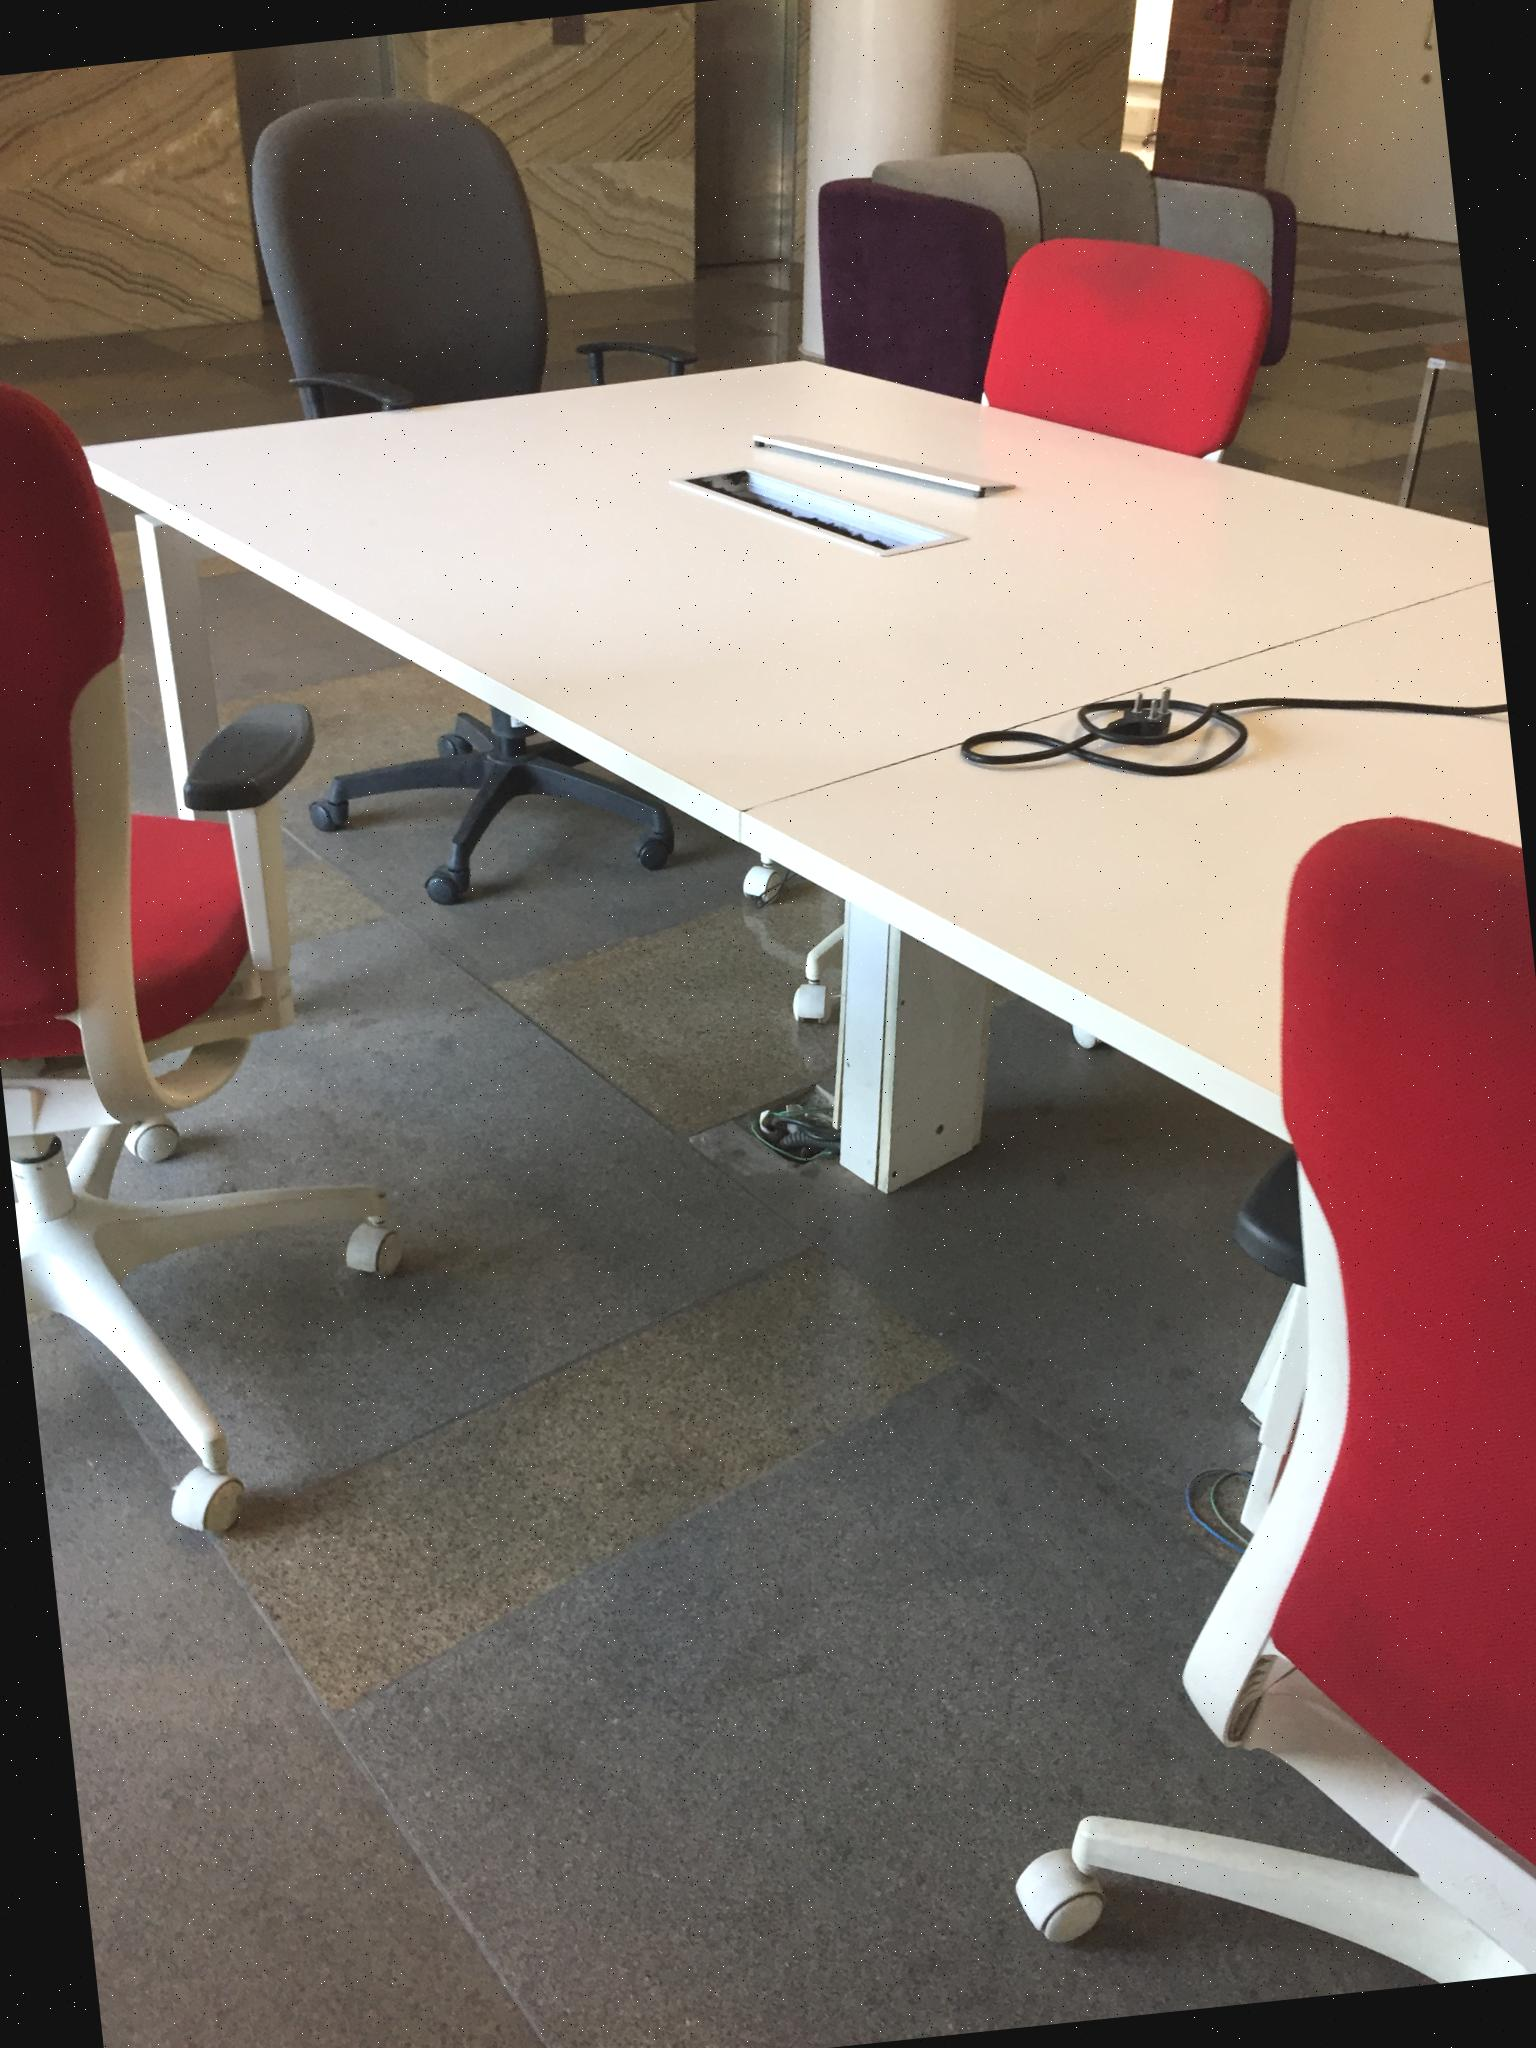chair: (907, 800, 1536, 2024), (0, 331, 431, 1551), (232, 61, 747, 918), (797, 131, 1260, 514)
